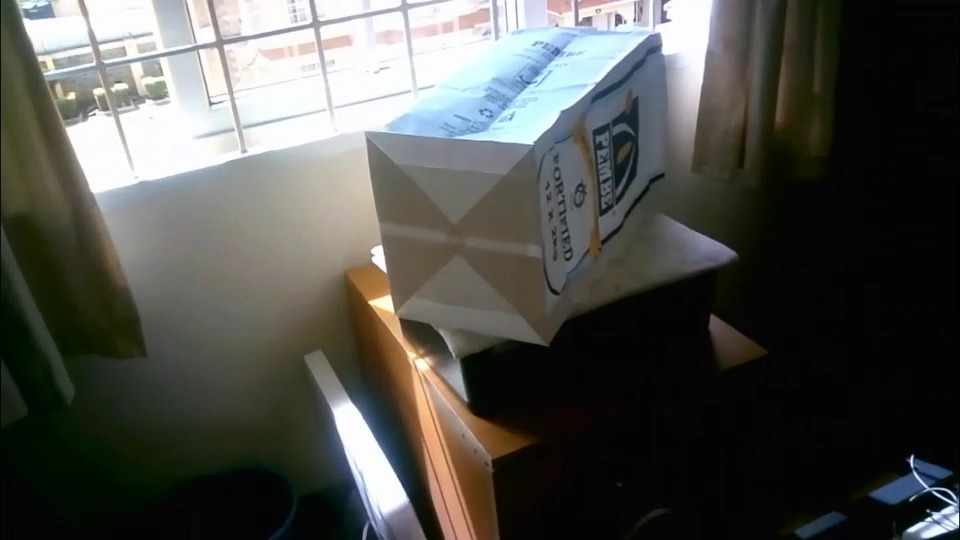wheat_flour_blue_label: (365, 30, 670, 341)
